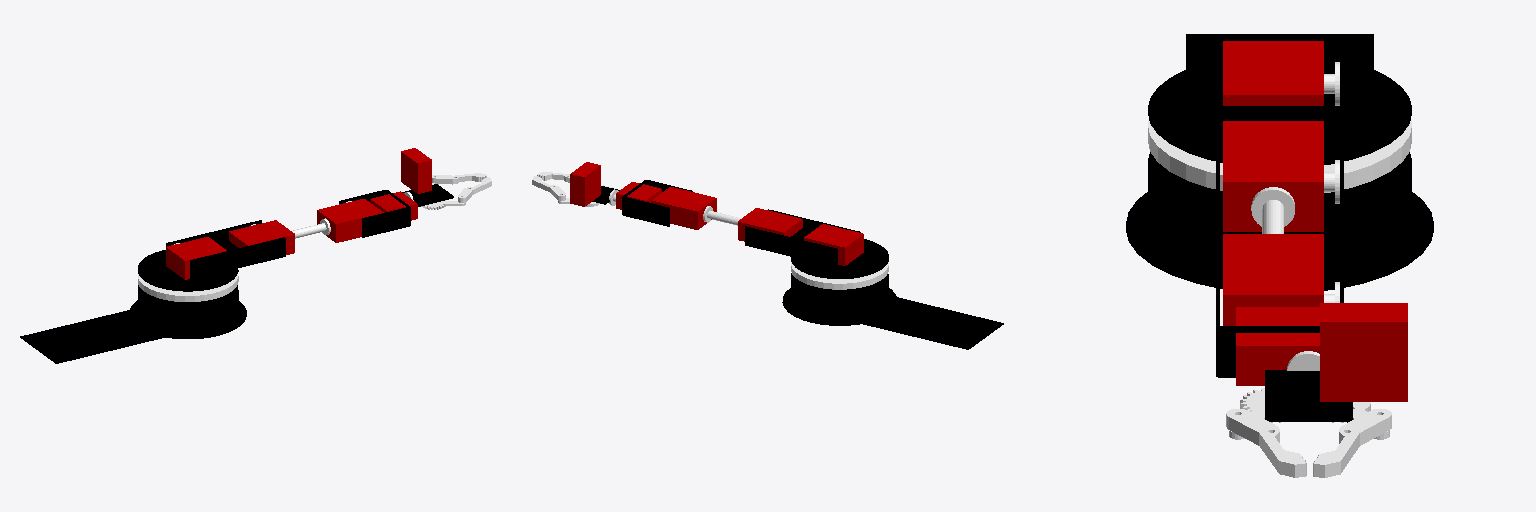
robot.urdf — robot:
<?xml version="1.0"?>
<robot name="robot">

	<material name="red">
		<color rgba="0.8 0 0 1"/>
	</material>

	<material name="blue">
		<color rgba="0 0 0.8 1"/>
	</material>
	
	<material name="white">
		<color rgba="1 1 1 1"/>
	</material>

	<material name="black">
		<color rgba="0 0 0 1"/>
	</material>


	<link name="base_link">
		<visual>
			<geometry>
				<cylinder radius="0.7" length="0.02"/>
			</geometry>
			<material name="black"/>
			<origin rpy="0 0 0" xyz="0 0 0"/>
		</visual>
	</link>


	<link name="base_black">
		<visual>
			<geometry>
				<cylinder radius="0.6" length="0.31"/>
			</geometry>
			<material name="black"/>
			<origin rpy="0 0 0" xyz="0 0 0"/>
		</visual>
	</link>

	<joint name="base_link_black" type="fixed">
		<parent link="base_link"/>
		<child link="base_black"/>
		<origin rpy="0 0 0" xyz="0 0 0.17"/>
	</joint>

	<link name="base_box">
		<visual>
			<geometry>
				<box size="2.05 0.85 0.02"/>
			</geometry>
			<material name="black"/>
			<origin rpy="0 0 0" xyz="-0.325 0 0"/>
		</visual>
	</link>

	<joint name="base_link_box" type="fixed">
		<parent link="base_link"/>
		<child link="base_box"/>
		<origin rpy="0 0 0" xyz="-0.7 0 0"/>
	</joint>


	<link name="base_white">
		<visual>
			<geometry>
				<cylinder radius="0.6" length="0.08"/>
			</geometry>
			<material name="white"/>
		<origin rpy="0 0 0" xyz="0 0 -0.04"/>
		</visual>
	</link>


	<joint name="base_black_white" type="fixed">
		<parent link="base_black"/>
		<child link="base_white"/>
		<origin rpy="0 0 0" xyz="0 0 0.34"/>
	</joint>

	<link name="base_link_rot">
		<visual>
			<geometry>
				<cylinder radius="0.6" length="0.02"/>
			</geometry>
			<material name="black"/>
			<origin rpy="0 0 0" xyz="0 0 -0.01"/>
		</visual>
	</link>
		
	<joint name="joint0" type="revolute">
		<parent link="base_white"/>
		<child link="base_link_rot"/>
		<limit effort="1000.0" lower="-1.5707" upper="1.5707" velocity="0.5"/>
		<origin rpy="0 0 0" xyz="0 0 0.08"/>
		<axis xyz="0 0 1"/>
	</joint>

	

	<link name="link1">
		<visual>
			<geometry>
				<box size="0.58 0.46 0.25"/>
			</geometry>
			<origin rpy="0 0 0" xyz="0 0 0"/>
			<material name="red"/>
		</visual>
	</link>

	<joint name="base_link1" type="fixed">
		<parent link="base_link_rot"/>
		<child link="link1"/>
		<origin rpy="0 0 0" xyz="0.1 -0.03 0.125"/>
		<axis xyz="0 0 1"/>
	</joint>

	<link name="link1_rot1">
		<visual>
			<geometry>
				<cylinder radius="0.045" length="0.05"/>
			</geometry>
			<material name="white"/>
			<origin rpy="0 0 0" xyz="0 0 -0.025"/>
		</visual>
	</link>
		
	<joint name="joint1" type="revolute">
		<parent link="link1"/>
		<child link="link1_rot1"/>
		<limit effort="1000.0" lower="0" upper="3.1415" velocity="0.5"/>
		<origin rpy="1.5707 0 0" xyz="-0.1 0.23 0"/>
		<axis xyz="0 0 1"/>
	</joint>

	<link name="link1_rot2">
		<visual>
			<geometry>
				<cylinder radius="0.1" length="0.02"/>
			</geometry>
			<material name="white"/>
			<origin rpy="0 0 0" xyz="0 0 -0.01"/>
		</visual>
	</link>
		
	<joint name="link1_rot2_rot1" type="fixed">
		<parent link="link1_rot1"/>
		<child link="link1_rot2"/>
		<origin rpy="0 0 0" xyz="0 0 -0.05"/>
	</joint>

	<link name="link1_frame1">
		<visual>
			<geometry>
				<box size="0.65 0.25 0.02"/>
			</geometry>
			<material name="black"/>
			<origin rpy="0 0 0" xyz="-0.325 0 0"/>
		</visual>
	</link>

	<joint name="link1_rot2_frame1" type="fixed">
		<parent link="link1_rot2"/>
		<child link="link1_frame1"/>
		<origin rpy="0 0 0" xyz="0.52 0 -0.03"/>
	</joint>
	
	<link name="link1_frame2">
		<visual>
			<geometry>
				<box size="0.04 0.25 0.56"/>
			</geometry>
			<material name="black"/>
			<origin rpy="0 0 0" xyz="0 0 -0.28"/>
		</visual>
	</link>

	<joint name="link1_frame1_frame2" type="fixed">
		<parent link="link1_frame1"/>
		<child link="link1_frame2"/>
		<origin rpy="0 0 0" xyz="0 0 0.56"/>
	</joint>

	<link name="link1_frame3">
		<visual>
			<geometry>
				<box size="0.65 0.25 0.02"/>
			</geometry>
			<material name="black"/>
			<origin rpy="0 0 0" xyz="-0.325 0 0"/>
		</visual>
	</link>

	<joint name="link1_frame1_frame3" type="fixed">
		<parent link="link1_frame1"/>
		<child link="link1_frame3"/>
		<origin rpy="0 0 0" xyz="0.65 0 0"/>
	</joint>

	<link name="link1_frame4">
		<visual>
			<geometry>
				<box size="0.65 0.25 0.02"/>
			</geometry>
			<material name="black"/>
			<origin rpy="0 0 0" xyz="-0.325 0 0"/>
		</visual>
	</link>

	<joint name="link1_frame2_frame4" type="fixed">
		<parent link="link1_frame2"/>
		<child link="link1_frame4"/>
		<origin rpy="0 0 0" xyz="0 0 0"/>
	</joint>

	<link name="link1_frame5">
		<visual>
			<geometry>
				<box size="0.65 0.25 0.02"/>
			</geometry>
			<material name="black"/>
			<origin rpy="0 0 0" xyz="-0.325 0 0"/>
		</visual>
	</link>

	<joint name="link1_frame4_frame5" type="fixed">
		<parent link="link1_frame4"/>
		<child link="link1_frame5"/>
		<origin rpy="0 0 0" xyz="0.65 0 0"/>
	</joint>

	<link name="link2">
		<visual>
			<geometry>
				<box size="0.65 0.25 0.46"/>
			</geometry>	
			<material name="red"/>
			<origin rpy="0 0 0" xyz="-0.325 0 0"/>
		</visual>
	</link>

	<link name="link2_rot1">
		<visual>
			<geometry>
				<cylinder radius="0.045" length="0.05"/>
			</geometry>	
			<material name="white"/>
			<origin rpy="0 0 0" xyz="0 0 -0.025"/>
		</visual>
	</link>

	
	<link name="link2_rot2">
		<visual>
			<geometry>
				<cylinder radius="0.1" length="0.02"/>
			</geometry>	
			<material name="white"/>
			<origin rpy="0 0 0" xyz="0 0 -0.01"/>
		</visual>
	</link>


	<joint name="joint2" type="revolute">
		<parent link="link1_frame3"/>
		<child link="link2_rot1"/>
		<limit effort="1000.0" lower="-1.5707" upper="1.5707" velocity="0.5"/>
		<origin rpy="0 0 0" xyz="-0.12 0 0.08"/>
		<axis xyz="0 0 1"/>
	</joint>

	<joint name="link2_rot2_rot1" type="fixed">
		<parent link="link2_rot1"/>
		<child link="link2_rot2"/>
		<origin rpy="0 0 0" xyz="0 0 -0.05"/>
	</joint>

	<joint name="link2_rot1" type="fixed">
		<parent link="link2_rot2"/>
		<child link="link2"/>
		<origin rpy="0 0 0" xyz="0.27 0 0.28"/>
	</joint>

	<link name="link2_bar1">
		<visual>
			<geometry>
				<cylinder radius="0.1" length="0.03"/>
			</geometry>	
			<material name="white"/>
			<origin rpy="0 1.57 0" xyz="-0.015 0 0"/>
		</visual>
	</link>

	<!-- link2_bar1 will be a virtual revolute joint 
			 as well as link2_bar1_bar2 these should improve 
			the accurasy of kdl kinematic solver
	-->
	
	<joint name="link2_bar1" type="revolute">
		<parent link="link2"/>
		<child link="link2_bar1"/>
		<limit effort="1000.0" lower="-0.005" upper="0.005" velocity="0.5"/>
		<axis xyz="1 0 0"/>
		<origin rpy="0 0 0" xyz="0.03 0 0"/>
	</joint>

	<link name="link2_bar2">
		<visual>
			<geometry>
				<cylinder radius="0.05" length="0.5"/>
			</geometry>	
			<material name="white"/>
			<origin rpy="0 1.57 0" xyz="-0.25 0 0"/>
		</visual>
	</link>

	<joint name="link2_bar1_bar2" type="revolute">
		<parent link="link2_bar1"/>
		<child link="link2_bar2"/>
		<limit effort="1000.0" lower="-0.005" upper="0.005" velocity="0.5"/>
		<axis xyz="0 1 0"/>
		<origin rpy="0 0 0" xyz="0.5 0 0"/>
	</joint>

	<!-- !!!! END of virtual joints !!!!! -->
	
	<link name="link2_bar3">
		<visual>
			<geometry>
				<cylinder radius="0.1" length="0.03"/>
			</geometry>	
			<material name="white"/>
			<origin rpy="0 1.57 0" xyz="-0.015 0 0"/>
		</visual>
	</link>

	<joint name="link2_bar2_bar3" type="fixed">
		<parent link="link2_bar2"/>
		<child link="link2_bar3"/>
		<origin rpy="0 0 0" xyz="0.03 0 0"/>
	</joint>

	<link name="link3">
		<visual>
			<geometry>
				<box size="0.65 0.25 0.46"/>
			</geometry>	
			<material name="red"/>
			<origin rpy="0 0 0" xyz="0 0 0"/>
		</visual>
	</link>

	<joint name="link2_bar3_link3" type="fixed">
		<parent link="link2_bar3"/>
		<child link="link3"/>
		<origin rpy="0 0 0" xyz="0.325 0 0"/>
	</joint>

	<link name="link3_rot1">
		<visual>
			<geometry>
				<cylinder radius="0.045" length="0.05"/>
			</geometry>	
			<material name="white"/>
			<origin rpy="0 0 0" xyz="0 0 -0.025"/>
		</visual>
	</link>

	<joint name="joint3" type="revolute">
		<parent link="link3"/>
		<child link="link3_rot1"/>
		<limit effort="1000.0" lower="-1.5707" upper="1.5707" velocity="0.5"/>
		<origin rpy="0 0 0" xyz="0.155 0 -0.23"/>
		<axis xyz="0 0 1"/>
	</joint>
	
	<link name="link3_rot2">
		<visual>
			<geometry>
				<cylinder radius="0.1" length="0.02"/>
			</geometry>	
			<material name="white"/>
			<origin rpy="0 0 0" xyz="0 0 -0.01"/>
		</visual>
	</link>

	<joint name="link3_rot2_rot1" type="fixed">
		<parent link="link3_rot1"/>
		<child link="link3_rot2"/>
		<origin rpy="0 0 0" xyz="0 0 -0.05"/>
	</joint>

	<link name="link3_frame1">
		<visual>
			<geometry>
				<box size="0.65 0.25 0.02"/>
			</geometry>
			<material name="black"/>
			<origin rpy="0 0 0" xyz="-0.325 0 0"/>
		</visual>
	</link>

	<joint name="link3_rot2_frame1" type="fixed">
		<parent link="link3_rot2"/>
		<child link="link3_frame1"/>
		<origin rpy="0 0 0" xyz="0.52 0 -0.03"/>
	</joint>
	
	<link name="link3_frame2">
		<visual>
			<geometry>
				<box size="0.02 0.25 0.56"/>
			</geometry>
			<material name="black"/>
			<origin rpy="0 0 0" xyz="0 0 -0.28"/>
		</visual>
	</link>

	<joint name="link3_frame1_frame2" type="fixed">
		<parent link="link3_frame1"/>
		<child link="link3_frame2"/>
		<origin rpy="0 0 0" xyz="0 0 0.56"/>
	</joint>

	<link name="link3_frame3">
		<visual>
			<geometry>
				<box size="0.65 0.25 0.02"/>
			</geometry>
			<material name="black"/>
			<origin rpy="0 0 0" xyz="-0.325 0 0"/>
		</visual>
	</link>

	<joint name="link3_frame2_frame3" type="fixed">
		<parent link="link3_frame2"/>
		<child link="link3_frame3"/>
		<origin rpy="0 0 0" xyz="0 0 0"/>
	</joint>

	<link name="link4">
		<visual>
			<geometry>
				<box size="0.42 0.20 0.40"/>
			</geometry>	
			<material name="red"/>
			<origin rpy="0 0 0" xyz="0 0 0"/>
		</visual>
	</link>

	<joint name="link3_frame1_link4" type="fixed">
		<parent link="link3_frame1"/>
		<child link="link4"/>
		<origin rpy="0 0 0" xyz="-0.06 0 0.28"/>
	</joint>

	<link name="link4_rot1">
		<visual>
			<geometry>
				<cylinder radius="0.045" length="0.05"/>
			</geometry>	
			<material name="white"/>
			<origin rpy="0 0 0" xyz="0 0 0.025"/>
		</visual>
	</link>

	<joint name="joint4" type="revolute">
		<parent link="link4"/>
		<child link="link4_rot1"/>
		<limit effort="1000.0" lower="-1.5707" upper="1.5707" velocity="0.5"/>
		<origin rpy="0 1.5707 0" xyz="0.21 0 -0.13"/>
		<axis xyz="0 0 1"/>
	</joint>
	
	<link name="link4_rot2">
		<visual>
			<geometry>
				<cylinder radius="0.1" length="0.02"/>
			</geometry>	
			<material name="white"/>
			<origin rpy="0 0 0" xyz="0 0 -0.01"/>
		</visual>
	</link>

	<joint name="link4_rot2_rot1" type="fixed">
		<parent link="link4_rot1"/>
		<child link="link4_rot2"/>
		<origin rpy="0 0 0" xyz="0 0 0.07"/>
	</joint>

  <!-- adding virtual joints for kdl kinematics solver 
			These links and joints are used because
			the kdl solver works with 6 or more dof
		-->

	<link name="vl0">
		<visual>
			<geometry>
				<cylinder radius="0.1" length="0.02"/>
			</geometry>	
			<material name="white"/>
			<origin rpy="0 0 0" xyz="0 0 0"/>
		</visual>
	</link>

	<joint name="vj0" type="revolute">
		<parent link="link4_rot2"/>
		<child link="vl0"/>
		<limit effort="1000.0" lower="-0.005" upper="0.005" velocity="0.5"/>
		<origin rpy="0 0 0" xyz="0 0 0"/>
		<axis xyz="0 1 0"/>
	</joint>
	
	<link name="vl1">
		<visual>
			<geometry>
				<cylinder radius="0.1" length="0.02"/>
			</geometry>	
			<material name="white"/>
			<origin rpy="0 0 0" xyz="0 0 0"/>
		</visual>
	</link>

	<joint name="vj1" type="revolute">
		<parent link="vl0"/>
		<child link="vl1"/>
		<limit effort="1000.0" lower="-0.005" upper="0.005" velocity="0.5"/>
		<origin rpy="0 0 0" xyz="0 0 0"/>
		<axis xyz="1 0 0"/>
	</joint>

	<!-- END of Virtual joints and links -->

	<!-- Gripper -->
    
	<joint name="arm_hand" type="fixed">
		<parent link="vl1"/>
		<child link="hand_base"/>
		<origin rpy="1.57 -1.57 0" xyz="0 0 0.25"/>
	</joint>


    <link name="hand_base">
    <visual>
      <origin xyz="0 0 0" rpy="0 0 0" />
      <geometry>
				<box size="0.5 0.4 0.03"/>
      </geometry>
      <material name="black"/>
    </visual>
  </link>


  <link name="hand_right_finger">
    <visual>
      <origin xyz="0.11 0 0" rpy="0 0 0" />
      <geometry>
        <mesh
            filename="package://robot_urdf/meshes/hand_right_finger.STL"
		    scale="11 11 11" />
      </geometry>
      <material name="white"/>
    </visual>
  </link>

  <joint name="gripper" type="revolute">
    <origin
      xyz="0 -0.15 0.06"
      rpy="-1.57 0 3.0 " />
    <parent link="hand_base" />
    <child link="hand_right_finger" />
    <axis xyz="0 1 0" />
    <limit
      lower="0"
      upper="0.57"
      effort="1000"
      velocity="0.5" />
  </joint>


  <!-- Right finger servo -->
  <link name="right_finger_servo">
    <visual>
      <origin xyz="0 0 0" rpy="0 0 0" />
      <geometry>
        <box size="0.2 0.4 0.4"/>
      </geometry>
      <material name="red"/>
    </visual>
  </link>

  <joint name="hand_right_servo" type="fixed">
    <parent link="hand_base"/>
    <child link="right_finger_servo"/>
    <origin rpy="0 0 0" xyz="0 -0.25 -0.22"/>
  </joint>


  <link name="hand_left_finger">
    <visual>
      <origin xyz="0.11 0 0" rpy="0 0 0" />
      <geometry>
        <mesh
            filename="package://robot_urdf/meshes/hand_left_finger.STL" 
		    scale="11 11 11" />
      </geometry>
      <material name="white"/>
    </visual>
  </link>

  <joint name="gripper_left" type="revolute">
		<mimic joint="gripper"/>
    <origin
      xyz="0 0.15 0.06"
      rpy="-1.57 0 0.52" />
    <parent link="hand_base" />
    <child link="hand_left_finger" />
    <axis xyz="0 -1 0" />
    <limit
      lower="0"
      upper="0.57"
      effort="1000"
      velocity="1000" />
  </joint>


</robot>			

--- What the picture shows (computed from the rendered views, not written in the file) ---
The picture shows the robot from 3 angles, left to right: view 1: azimuth 30°, elevation 25°; view 2: azimuth 150°, elevation 25°; view 3: azimuth 270°, elevation 25°; orthographic projection.
Model robot with 34 links and 33 joints (11 revolute, 22 fixed), rooted at base_link, posed all joints at 0.
Links seen in each view (by area): view 1: base_box, base_black, base_link_rot, link3, link1, link2, right_finger_servo, base_white, link3_frame3, link1_frame4, link1_frame5, base_link (+2 smaller); view 2: base_box, base_black, base_link_rot, link3, link1, link2, right_finger_servo, base_white, link1_frame1, link3_frame1, link1_frame3, base_link (+1 smaller); view 3: base_black, base_link_rot, link2, right_finger_servo, link3, link1, base_link, link4, base_white, hand_base, base_box, hand_left_finger (+5 smaller).
Boxes of the visible links, x1,y1,x2,y2 form: base_box: [20, 308, 173, 363]; base_black: [138, 285, 238, 333]; base_link_rot: [138, 250, 238, 291]; link3: [317, 199, 383, 242]; link1: [166, 237, 226, 279]; link2: [229, 220, 294, 254]; right_finger_servo: [401, 148, 431, 193]; base_white: [138, 274, 238, 301]; link3_frame3: [362, 207, 410, 237]; link1_frame4: [190, 249, 237, 279]; link1_frame5: [238, 237, 285, 267]; base_link: [129, 300, 246, 338]; base_box: [853, 296, 1003, 349]; base_black: [791, 273, 888, 320]; base_link_rot: [791, 239, 888, 278]; link3: [651, 187, 716, 229]; link1: [804, 224, 863, 265]; link2: [738, 208, 802, 241]; right_finger_servo: [570, 162, 600, 206]; base_white: [791, 262, 888, 289]; link1_frame1: [791, 238, 837, 267]; link3_frame1: [623, 197, 669, 226]; link1_frame3: [745, 226, 790, 256]; base_link: [782, 288, 896, 325]; base_black: [1148, 152, 1411, 275]; base_link_rot: [1148, 56, 1411, 164]; link2: [1223, 121, 1323, 231]; right_finger_servo: [1320, 303, 1407, 401]; link3: [1223, 234, 1323, 325]; link1: [1223, 41, 1323, 105]; base_link: [1126, 192, 1433, 290]; link4: [1236, 307, 1319, 385]; base_white: [1148, 121, 1411, 192]; hand_base: [1265, 370, 1352, 422]; base_box: [1186, 34, 1373, 68]; hand_left_finger: [1226, 388, 1306, 477].
Bounding box of the posed robot: 6.25 × 1.4 × 1.15 m (x, y, z).
Meshes: 2 distinct files referenced, 2 mesh visuals loaded (2 binary STL).